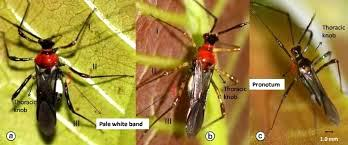Helopeltis-insect: (284, 36, 339, 126), (180, 29, 225, 135), (29, 31, 68, 140)
